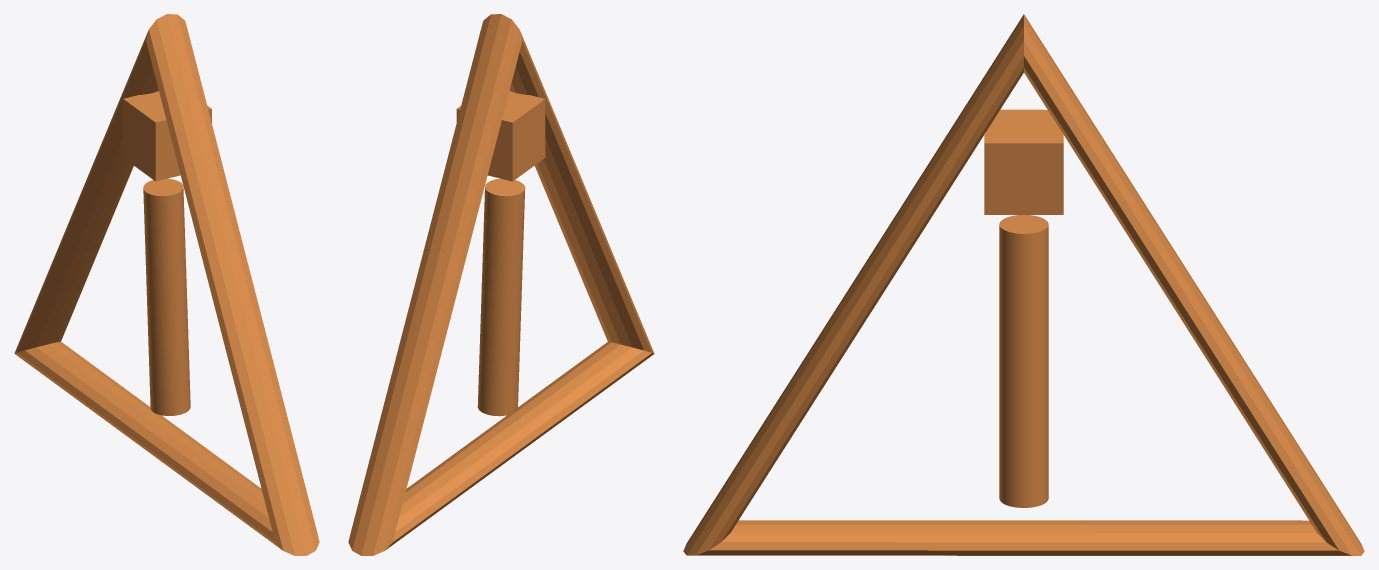
File: tishi.fbx
The picture shows the model from 3 angles, left to right: view 1: azimuth 30°, elevation 25°; view 2: azimuth 150°, elevation 25°; view 3: azimuth 270°, elevation 25°; orthographic projection. The views are drawn at different scales.
Parts seen in each view (by area): view 1: pTorus1, pCylinder1, pCube2; view 2: pTorus1, pCylinder1, pCube2; view 3: pTorus1, pCylinder1, pCube2.
Part boxes in pixels (left/top/right/bottom): pTorus1: left=14, top=14, right=319, bottom=555; pCylinder1: left=143, top=178, right=190, bottom=415; pCube2: left=123, top=91, right=211, bottom=181; pTorus1: left=348, top=14, right=654, bottom=555; pCylinder1: left=477, top=178, right=525, bottom=416; pCube2: left=456, top=91, right=545, bottom=181; pTorus1: left=683, top=14, right=1364, bottom=555; pCylinder1: left=999, top=215, right=1048, bottom=507; pCube2: left=984, top=109, right=1063, bottom=214.
Size of the model in its own units: 1.35 by 10.04 by 11.6.
